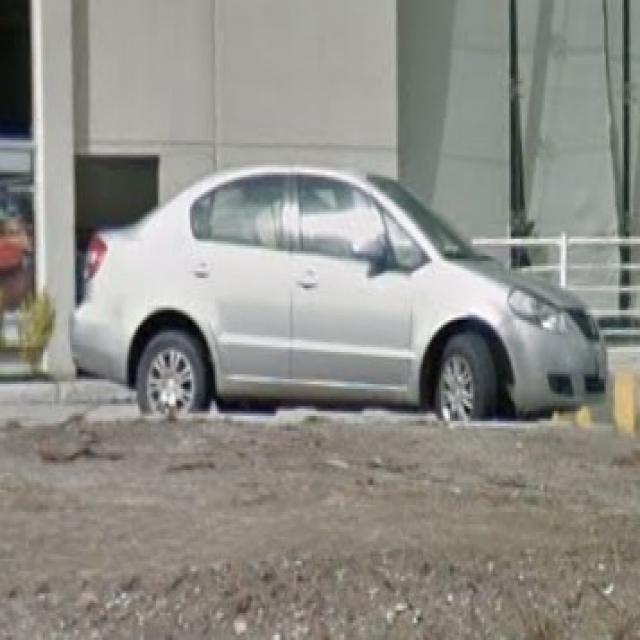cars: (70, 157, 612, 426)
